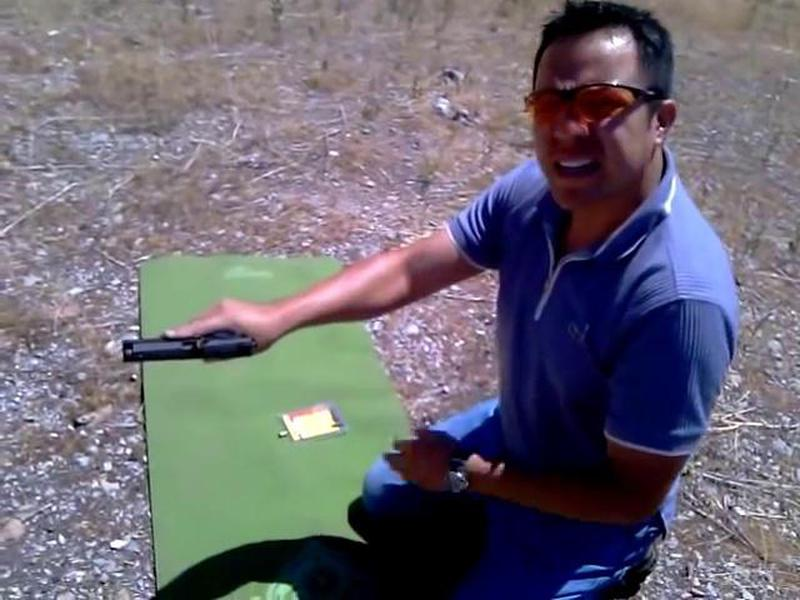Pistola: (109, 311, 266, 374)
